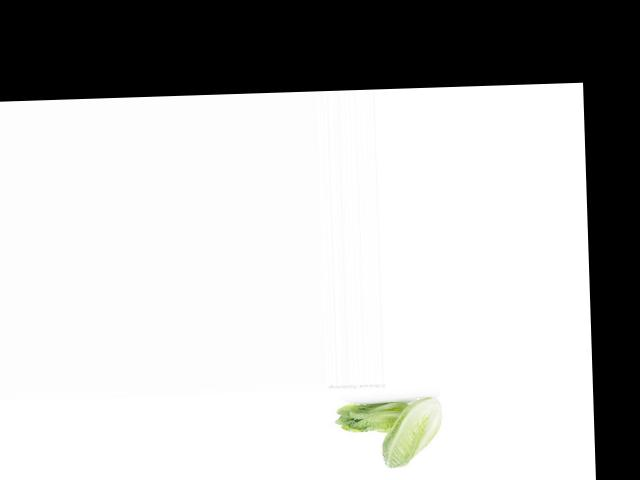lettuce: (335, 391, 409, 441)
